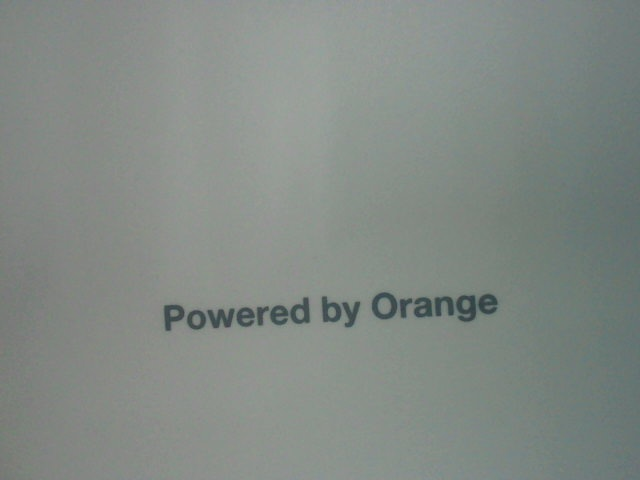AS_PowerByOrange: (152, 280, 505, 351)
